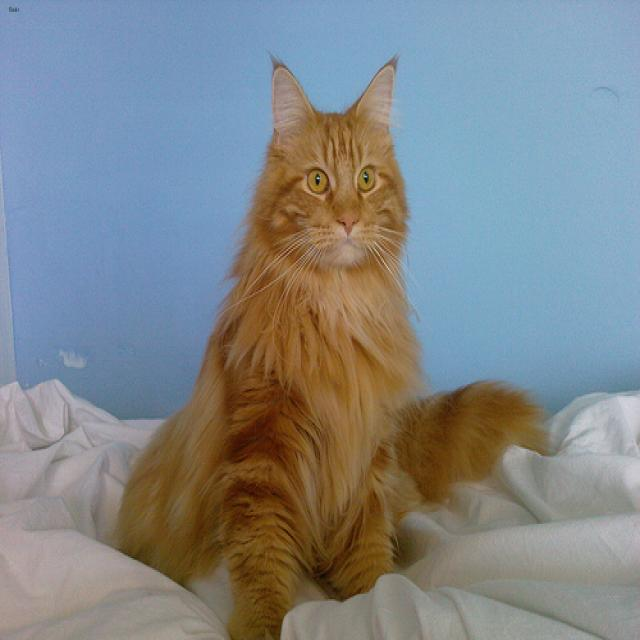cat: (266, 58, 401, 263)
